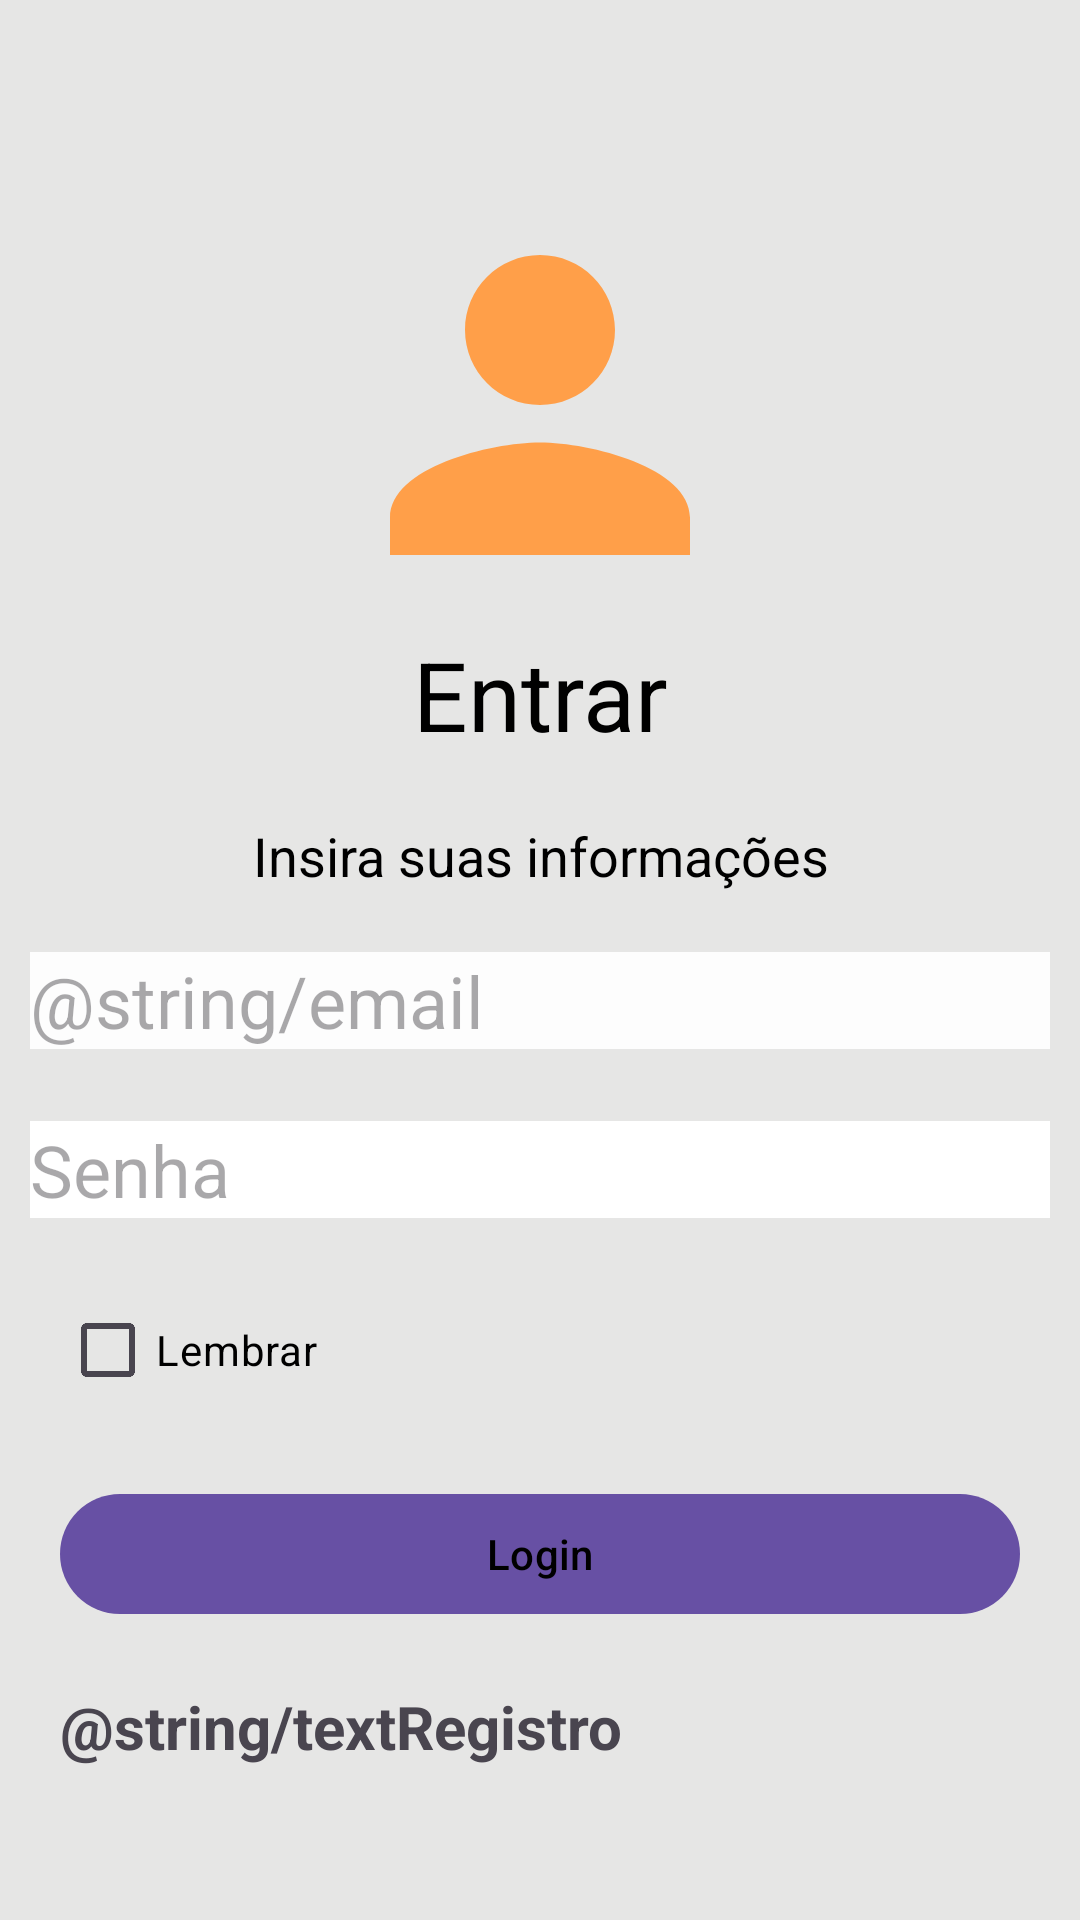

Locate icon controls on the screen. Image size 1080 × 1920, boxes as detection(x1, y1, x2, y2).
Image User: detection(390, 255, 690, 555)
